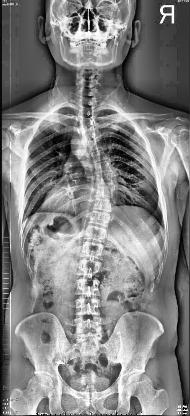Vertebrae: (74, 278, 104, 296), (80, 226, 110, 242), (76, 260, 104, 276), (74, 300, 104, 314), (78, 243, 108, 257), (88, 210, 114, 224), (92, 186, 116, 198), (90, 199, 116, 209), (90, 163, 114, 173), (92, 175, 114, 185), (80, 130, 104, 139), (82, 142, 106, 150), (80, 106, 99, 116), (90, 152, 112, 160), (80, 98, 102, 106), (80, 118, 99, 126)
